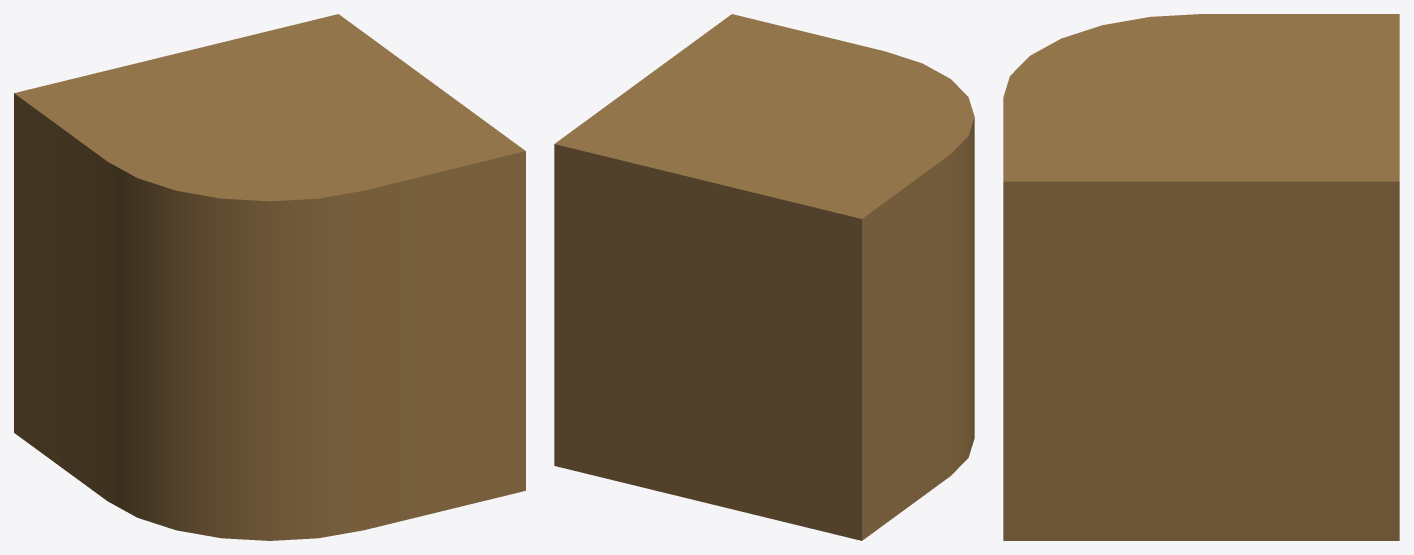
The model's file is CornerSquareGround.fbx.
3 views of the same model, side by side, from view 1: azimuth 30°, elevation 25°; view 2: azimuth 150°, elevation 25°; view 3: azimuth 270°, elevation 25° (orthographic). The views are drawn at different scales.
Parts seen in each view (by area): view 1: Tile_Corner_Foundation; view 2: Tile_Corner_Foundation; view 3: Tile_Corner_Foundation.
Part boxes in pixels (box(x1,y1,x2,y2)): Tile_Corner_Foundation: box(14, 14, 525, 540); Tile_Corner_Foundation: box(554, 14, 974, 540); Tile_Corner_Foundation: box(1003, 14, 1399, 540).
Bounding box in the file's own units: 200 × 200 × 200.
